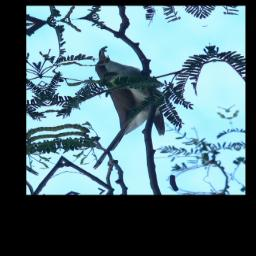Cuckoo: (60, 42, 187, 174)
